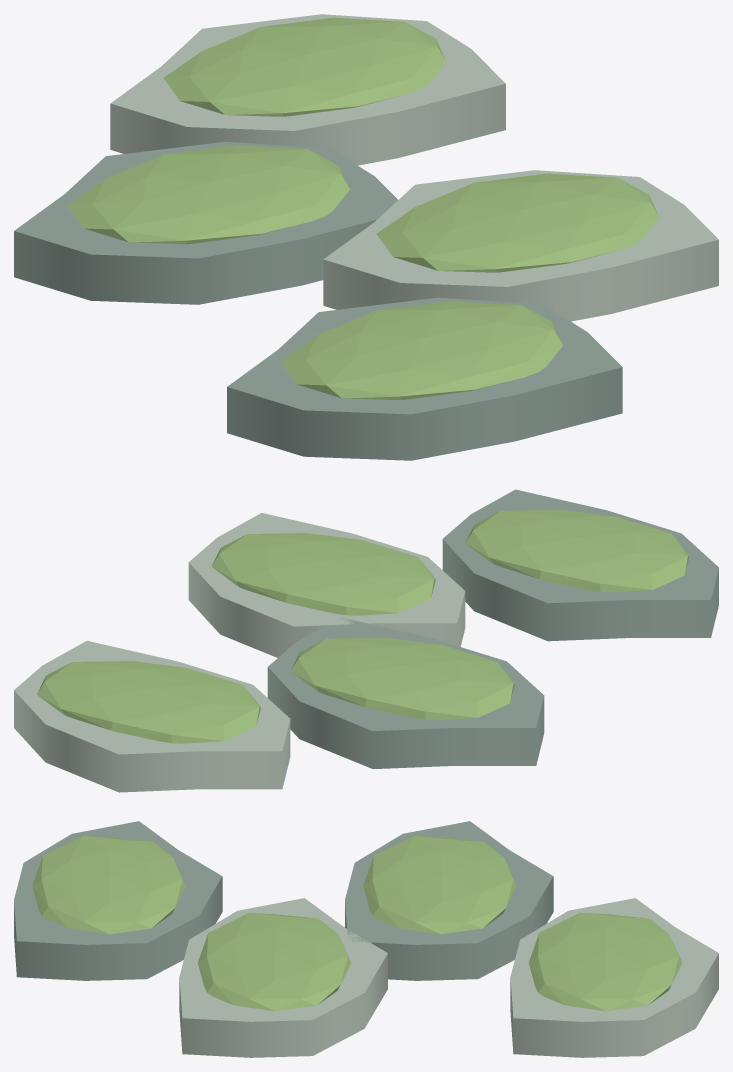
File: path-stones-mossy.glb
3 views of the same model, one above another, from view 1: azimuth 30°, elevation 25°; view 2: azimuth 150°, elevation 25°; view 3: azimuth 270°, elevation 25° (orthographic). The views are drawn at different scales.
Visible parts, largest first — view 1: path-stones-kit-mossy-top, path-stones-kit-mossy-stone, path-stones-kit-mossy-light; view 2: path-stones-kit-mossy-top, path-stones-kit-mossy-stone, path-stones-kit-mossy-light; view 3: path-stones-kit-mossy-top, path-stones-kit-mossy-light, path-stones-kit-mossy-stone.
Boxes of the visible parts, x1,y1,x2,y2 form: path-stones-kit-mossy-top: (67,17,659,399); path-stones-kit-mossy-stone: (14,141,622,460); path-stones-kit-mossy-light: (110,14,718,321); path-stones-kit-mossy-top: (37,509,689,743); path-stones-kit-mossy-stone: (267,489,718,769); path-stones-kit-mossy-light: (14,513,465,792); path-stones-kit-mossy-top: (32,836,682,1011); path-stones-kit-mossy-light: (179,898,718,1057); path-stones-kit-mossy-stone: (14,821,553,980).
Bounding box in the file's own units: 1.44 × 0.17 × 2.13.
